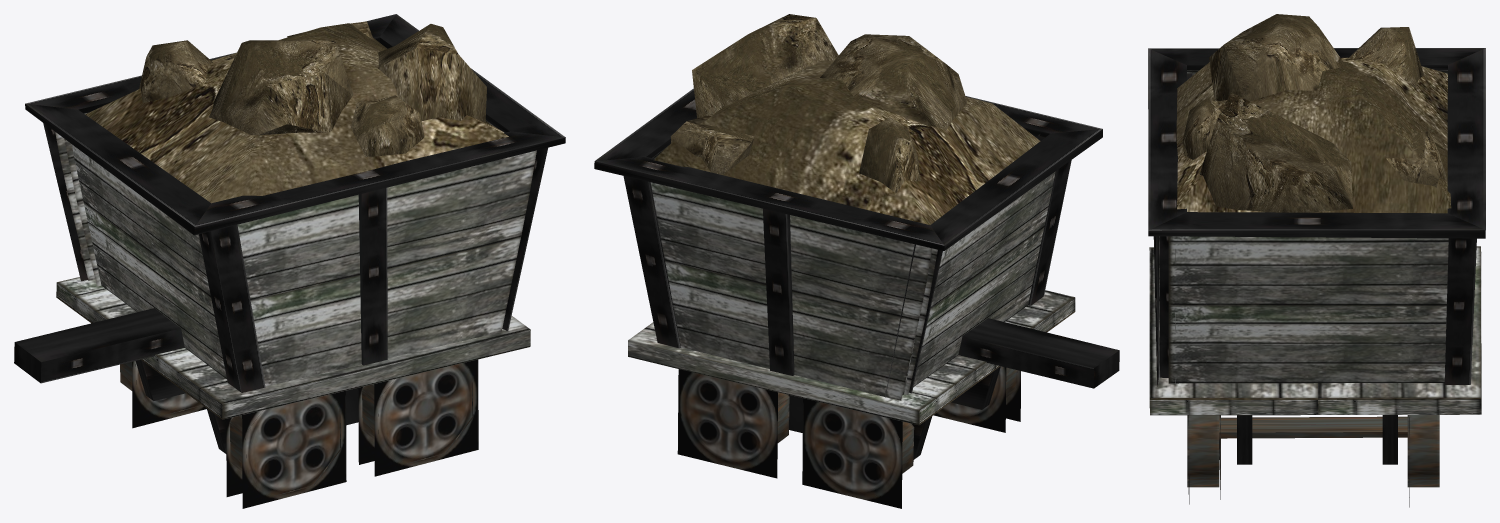
Rendered from cave_mine_cart.fbx.
The picture shows the model from 3 angles, left to right: view 1: azimuth 30°, elevation 25°; view 2: azimuth 150°, elevation 25°; view 3: azimuth 270°, elevation 25°; orthographic projection. The views are drawn at different scales.
Visible parts, largest first — view 1: sides1, rock_24, sides3, sides2, rock_15, spokes1, spokes5, wood15, wood4, rock_2, wood14, wood2 (+15 smaller); view 2: sides5, rock_24, sides3, sides2, spokes4, spokes8, rock_15, wood11, rock_2, wood4, wood14, wood17 (+11 smaller); view 3: sides4, rock_24, rock_2, sides2, rock_15, wood13, wood11, wood15, wood16, pCube4, wheel5, wheel4 (+7 smaller).
Boxes of the visible parts, x1,y1,x2,y2 form: sides1: (237, 150, 536, 386); rock_24: (85, 23, 508, 203); sides3: (71, 144, 226, 378); sides2: (56, 277, 530, 419); rock_15: (209, 40, 353, 135); spokes1: (242, 390, 346, 508); spokes5: (374, 359, 478, 476); wood15: (194, 131, 565, 235); wood4: (14, 308, 184, 383); rock_2: (378, 24, 486, 122); wood14: (25, 103, 210, 234); wood2: (199, 225, 265, 392); sides5: (650, 182, 937, 400); rock_24: (654, 60, 1040, 224); sides3: (902, 171, 1055, 394); sides2: (628, 290, 1075, 425); spokes4: (802, 398, 902, 508); spokes8: (677, 369, 777, 478); rock_15: (820, 34, 966, 130); wood11: (594, 157, 944, 250); rock_2: (692, 14, 838, 118); wood4: (958, 318, 1119, 388); wood14: (930, 129, 1102, 250); wood17: (763, 208, 794, 375); sides4: (1168, 236, 1448, 383); rock_24: (1176, 57, 1451, 213); rock_2: (1199, 92, 1352, 212); sides2: (1149, 246, 1481, 415); rock_15: (1209, 14, 1346, 101); wood13: (1148, 212, 1485, 238); wood11: (1447, 48, 1485, 229); wood15: (1148, 48, 1186, 230); wood16: (1444, 238, 1476, 384); pCube4: (1219, 416, 1407, 438); wheel5: (1407, 415, 1439, 487); wheel4: (1187, 415, 1219, 487).
Bounding box in the file's own units: 1115 × 954 × 714.
2 materials, 2 textured.
